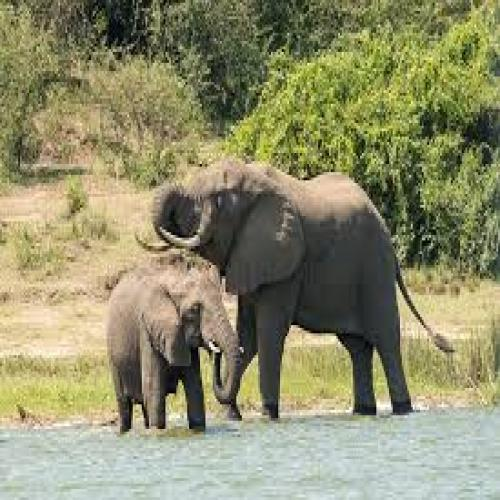asian_elephant-endangered: (134, 159, 453, 422), (110, 262, 243, 426)
